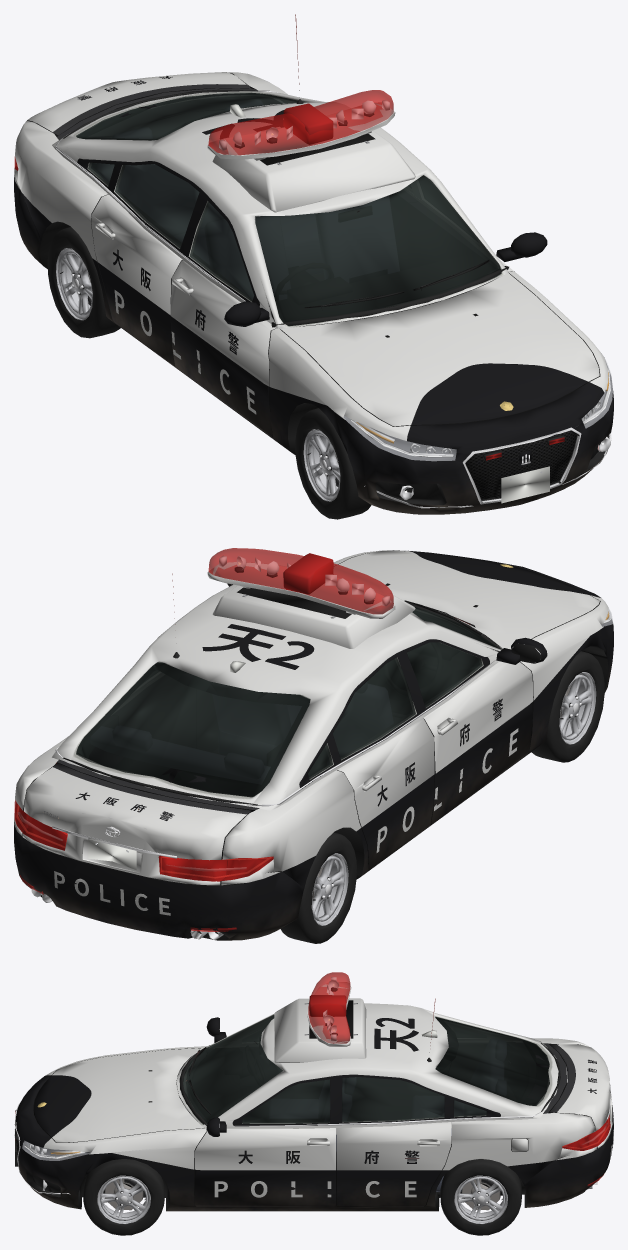
Rendered from police_crown_osaka_game_LOD2.glb.
3 renders of one model, top to bottom at view 1: azimuth 30°, elevation 25°; view 2: azimuth 150°, elevation 25°; view 3: azimuth 270°, elevation 25°, orthographic. The views are drawn at different scales.
Visible parts, largest first — view 1: Body_LOD2, Glass_LOD2, Details_LOD2, Wheel_FR_LOD2, Wheel_RR_LOD2; view 2: Body_LOD2, Glass_LOD2, Details_LOD2, Wheel_RR_LOD2, Wheel_FR_LOD2; view 3: Body_LOD2, Glass_LOD2, Details_LOD2, Wheel_RL_LOD2, Wheel_FL_LOD2.
Part boxes in pixels (x1,y1,x2,y2): Body_LOD2: (14,72,613,514); Glass_LOD2: (14,90,612,460); Details_LOD2: (53,14,611,508); Wheel_FR_LOD2: (295,408,371,519); Wheel_RR_LOD2: (47,227,120,338); Body_LOD2: (14,550,613,940); Glass_LOD2: (14,548,612,931); Details_LOD2: (16,553,611,940); Wheel_RR_LOD2: (280,832,357,943); Wheel_FR_LOD2: (531,651,604,762); Body_LOD2: (16,998,613,1211); Glass_LOD2: (15,972,610,1185); Details_LOD2: (14,977,613,1210); Wheel_RL_LOD2: (440,1159,521,1235); Wheel_FL_LOD2: (83,1159,164,1235).
Size of the model in its own units: 2.19 by 1.94 by 4.91.
7 materials, 3 textured.
